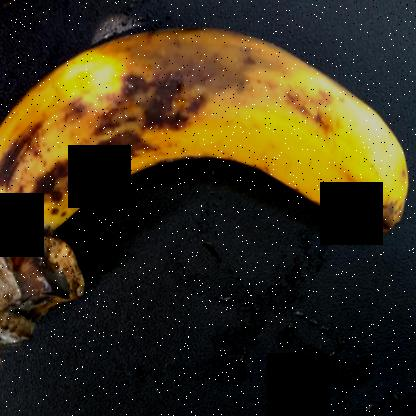overripe: (0, 27, 415, 246)
